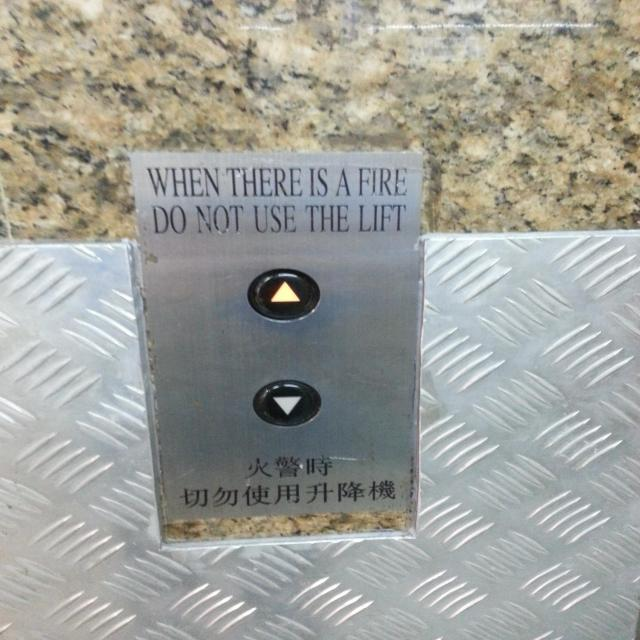down: (254, 379, 322, 428)
up: (245, 263, 320, 322)
